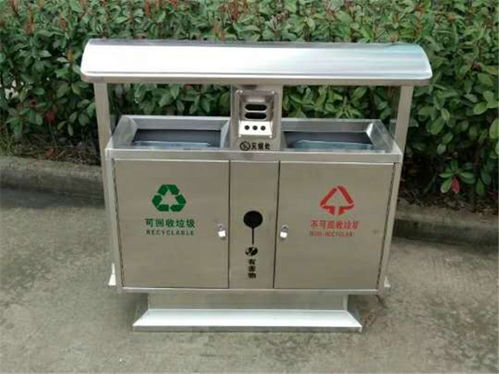no_overflow: (80, 38, 434, 333)
